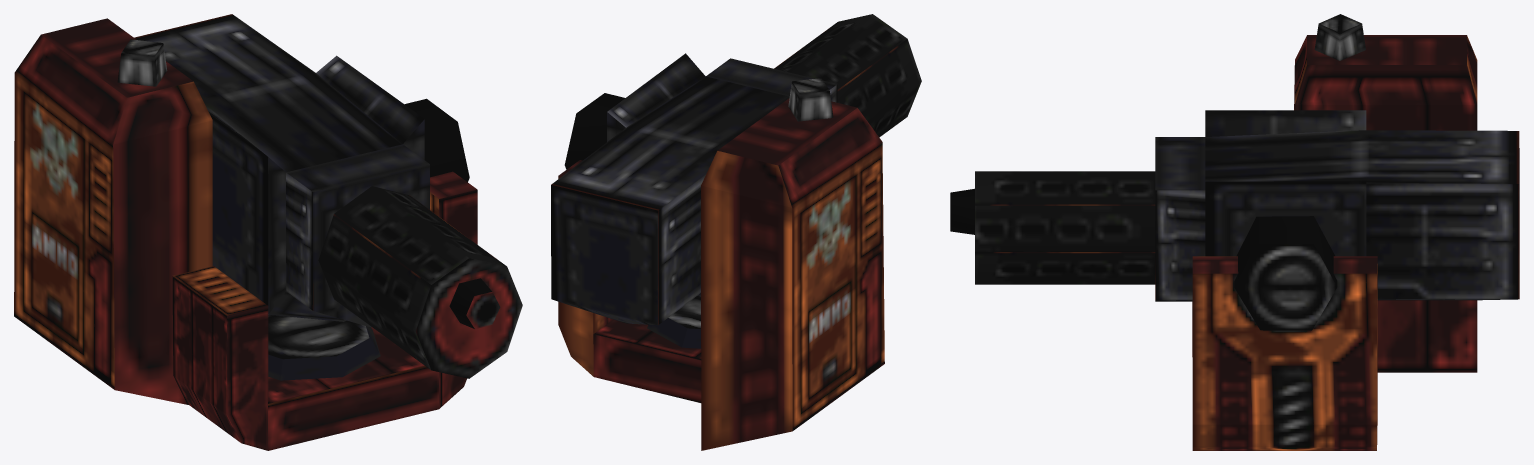
The model's file is sentry1.glb.
3 views of the same model, side by side, from view 1: azimuth 30°, elevation 25°; view 2: azimuth 150°, elevation 25°; view 3: azimuth 270°, elevation 25° (orthographic). The views are drawn at different scales.
Visible parts, largest first — view 1: sentry1; view 2: sentry1; view 3: sentry1.
Boxes of the visible parts, <box> form: sentry1: <box>14,14,522,450</box>; sentry1: <box>551,14,921,450</box>; sentry1: <box>950,14,1519,450</box>.
Size of the model in its own units: 27.61 by 28.95 by 45.34.
2 materials, 2 textured.
